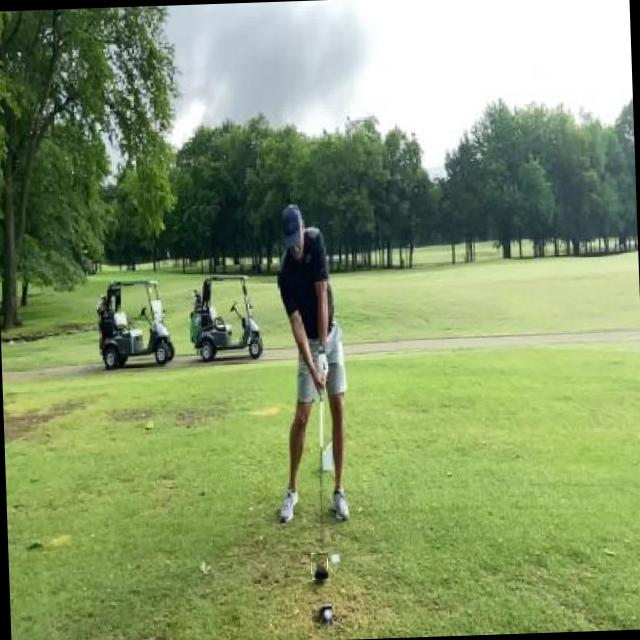club head: (311, 552, 328, 580)
